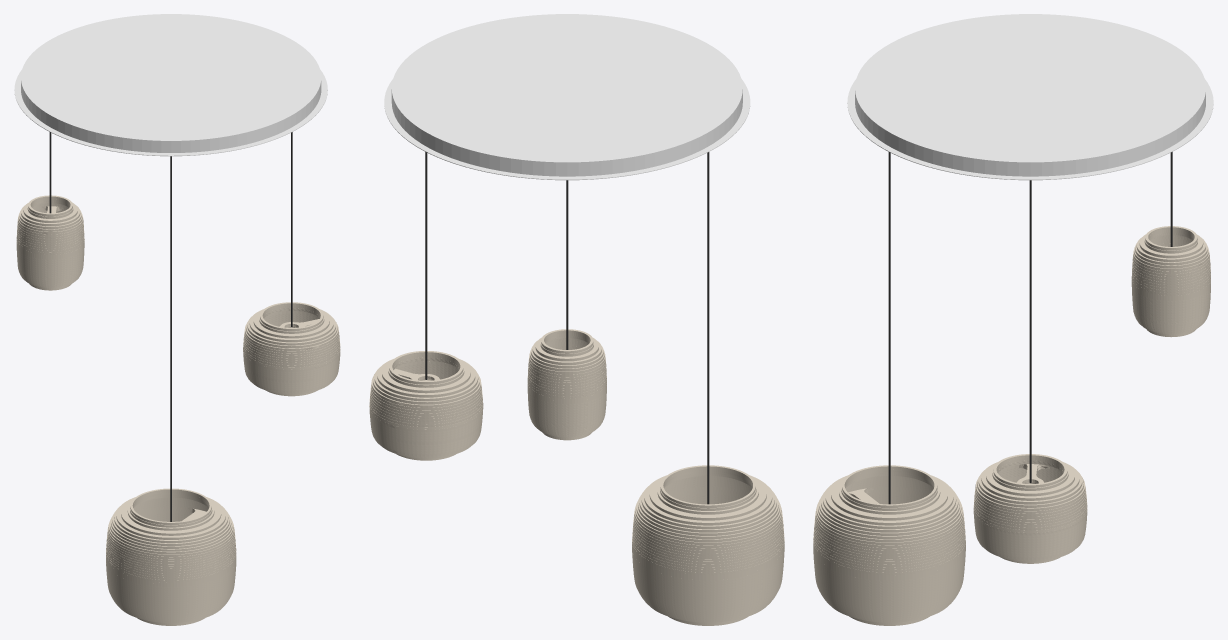
The picture shows the model from 3 angles, left to right: view 1: azimuth 30°, elevation 25°; view 2: azimuth 150°, elevation 25°; view 3: azimuth 270°, elevation 25°; orthographic projection. The views are drawn at different scales.
Size of the model in its own units: 0.9899 by 1.5 by 0.9839.
